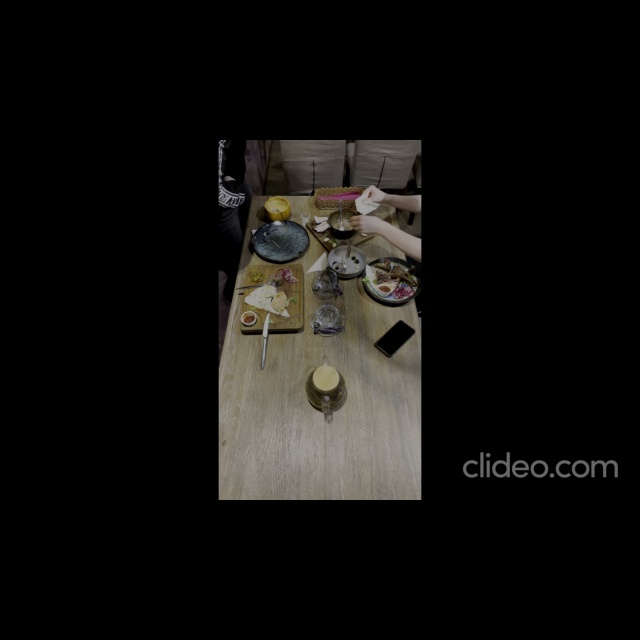закуска(пустая тарелка): (239, 264, 304, 332)
мясо(пустая тарелка): (362, 258, 422, 304)
салат цезарь: (328, 245, 366, 278)
салат(пустая тарелка): (252, 220, 309, 262)
сырный суп(пустая тарелка): (264, 197, 291, 223)
